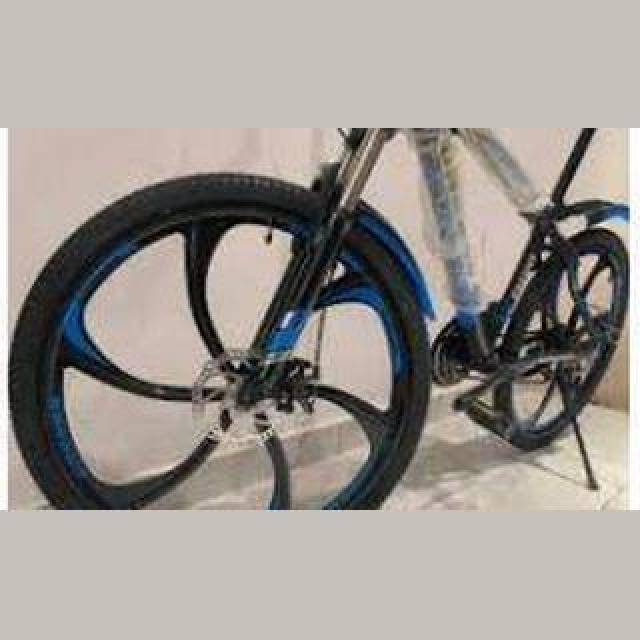Person: (10, 128, 632, 510)
